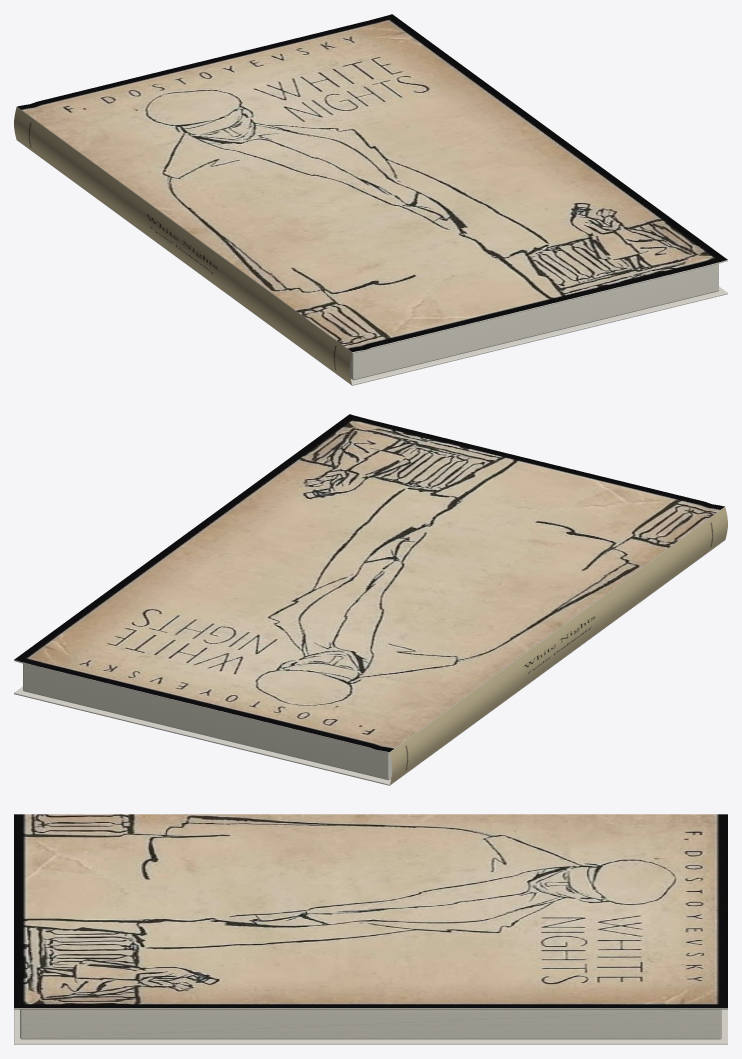
File: white-nights.glb
3 renders of one model, top to bottom at view 1: azimuth 30°, elevation 25°; view 2: azimuth 150°, elevation 25°; view 3: azimuth 270°, elevation 25°, orthographic. The views are drawn at different scales.
Visible parts, largest first — view 1: Book.white-nights; view 2: Book.white-nights; view 3: Book.white-nights.
Part boxes in pixels (box(x1,y1,x2,y2)): Book.white-nights: box(14, 14, 727, 385); Book.white-nights: box(14, 414, 727, 785); Book.white-nights: box(14, 814, 727, 1044).
Size of the model in its own units: 0.1289 by 0.0113 by 0.198.
Materials: 3 (2 with a texture image).
